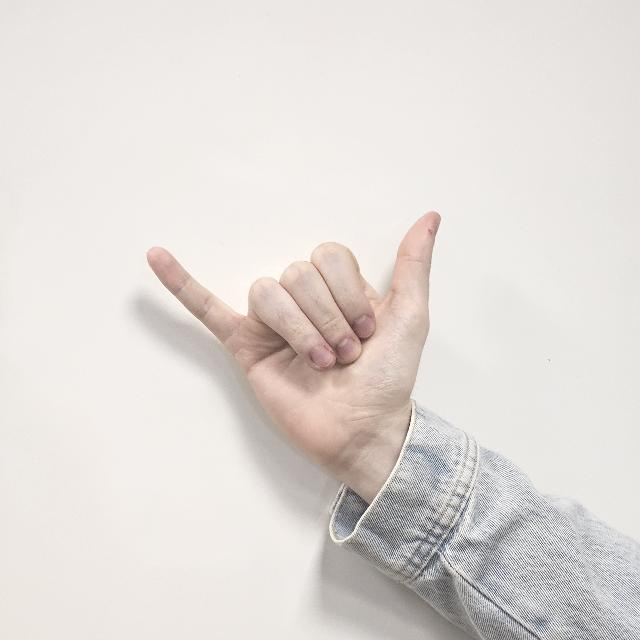Direita: (139, 201, 443, 485)
